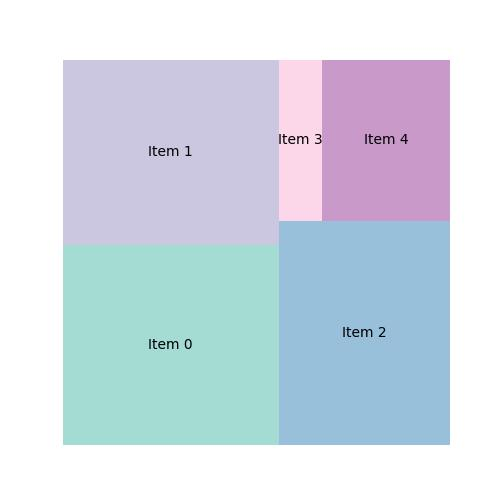rectangle: (61, 241, 280, 447), (62, 58, 279, 244), (278, 218, 451, 446), (321, 61, 451, 221), (279, 58, 322, 220)
